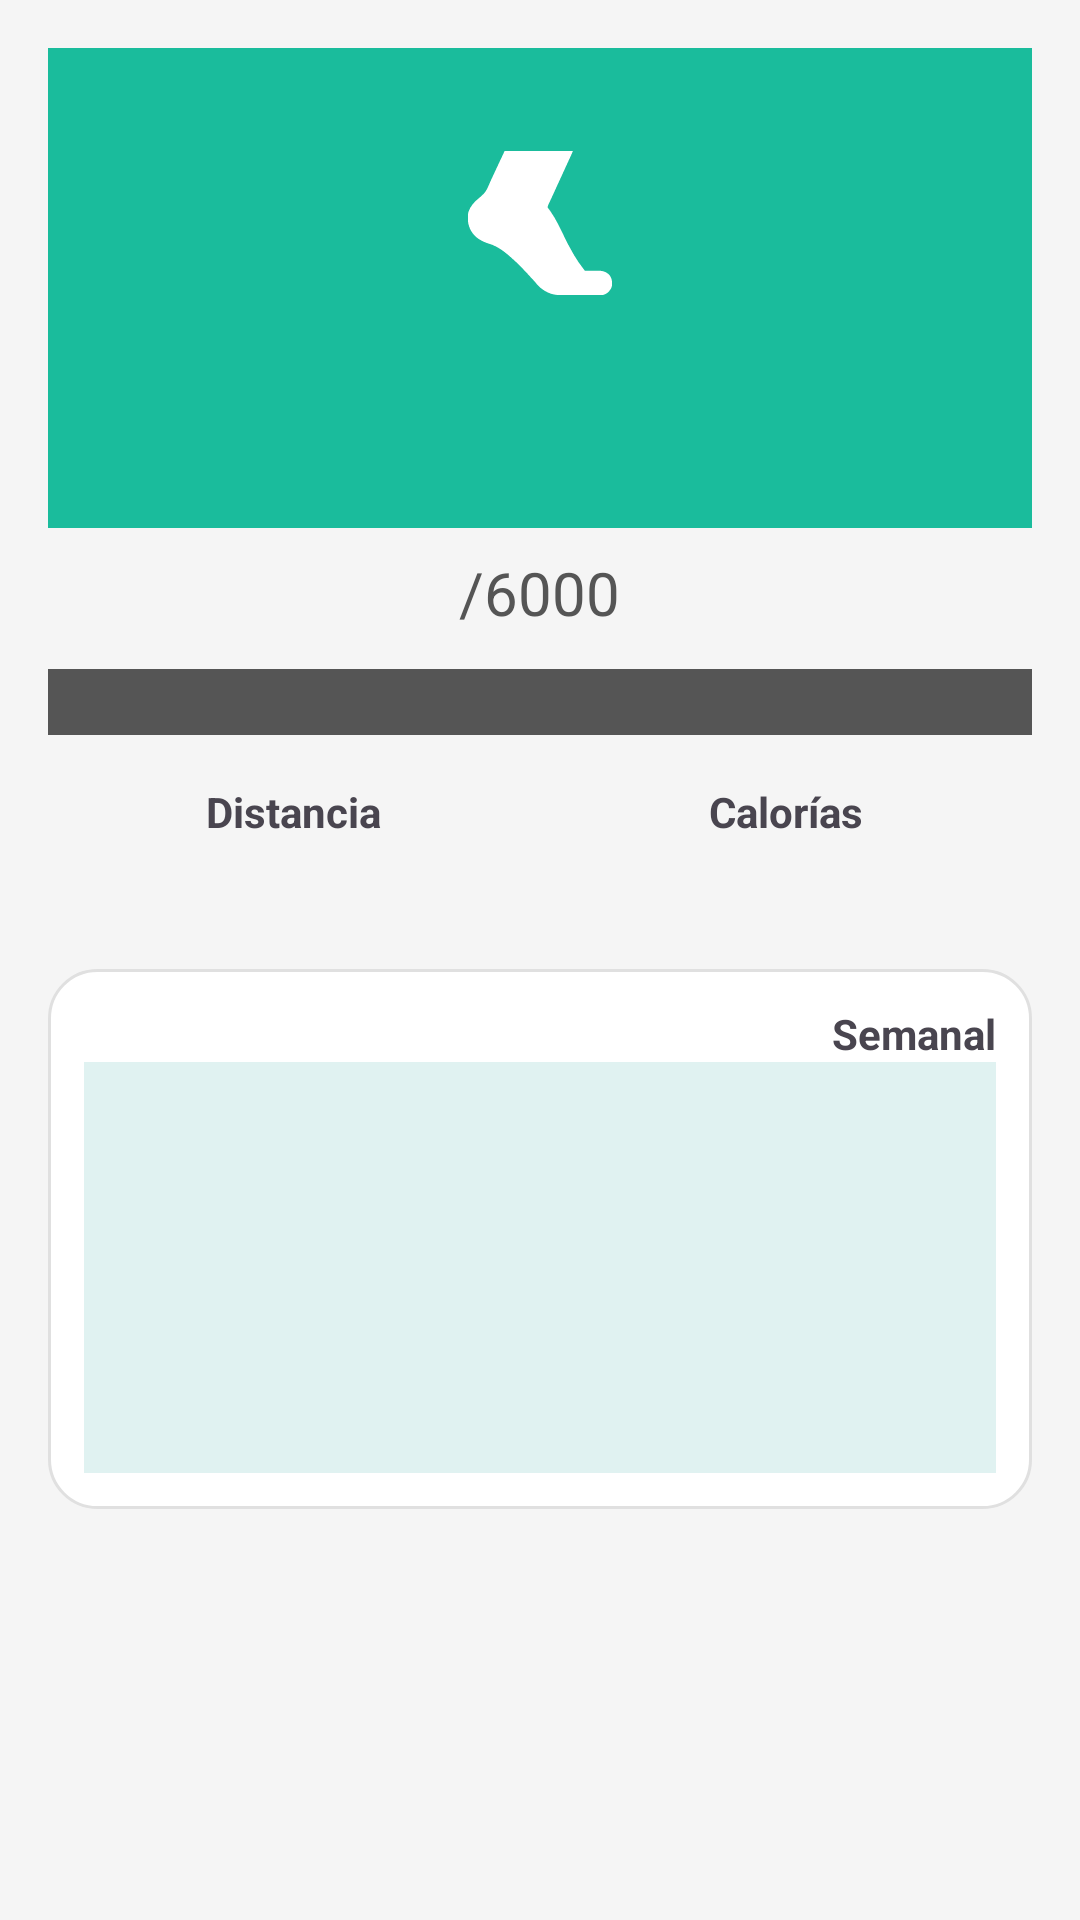

Screen size 1080px×1920px. Icon name, then its box in pixels as rect(x1, y1, x2, y2):
Ícono de pasos: rect(468, 151, 612, 295)
